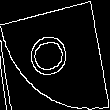O_E: (29, 28, 81, 82)
